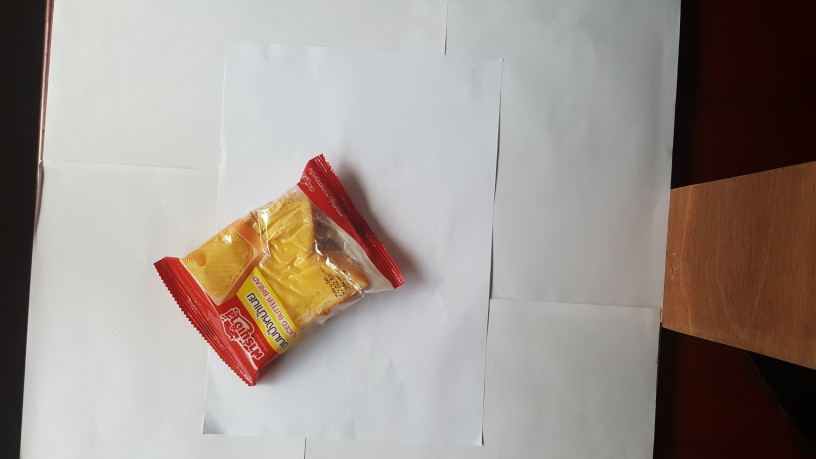farmhouse-bread-butter: (136, 147, 411, 398)
